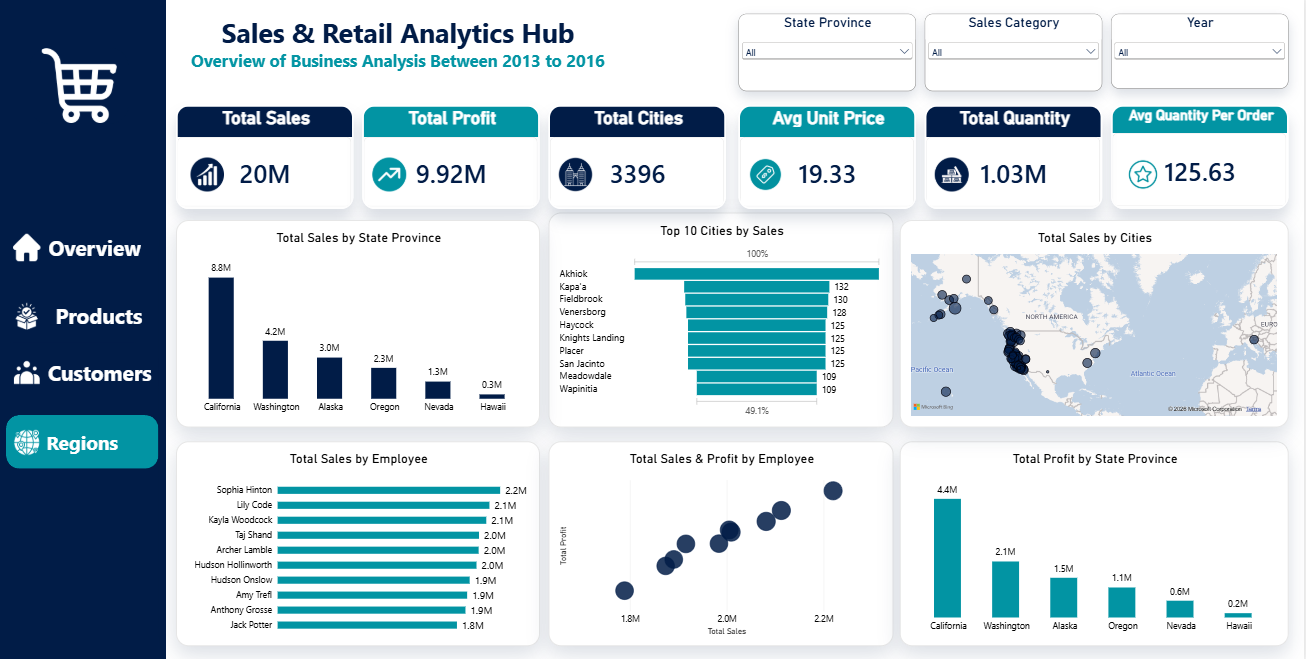

This screenshot's page, from the dashboard's own definition file:
{"tool":"powerbi","page":{"name":"Regions","canvas":[2110,1070],"ordinal":3},"visuals":[{"type":"shape","box":[10,0,278,1070],"z":0},{"type":"textbox","box":[304,30,710,108],"z":1000},{"type":"cardVisual","title":"Total Sales","fields":{"Data":["FactSale.Total Sales"]},"box":[304,176,284,166],"z":2000},{"type":"funnel","title":"Top 10 Cities by Sales","fields":{"Category":["DimCity.City"],"Y":["FactSale.Total Orders"]},"box":[900,348,552,344],"z":3000},{"type":"cardVisual","title":"Total Profit","fields":{"Data":["FactSale.Total Profit"]},"box":[602,176,284,166],"z":4000},{"type":"cardVisual","title":"Avg Unit Price","fields":{"Data":["FactSale.Average Unit Price"]},"box":[1204,176,284,166],"z":5000},{"type":"cardVisual","title":"Avg Quantity Per Order","fields":{"Data":["FactSale.Avg Quantity per Order"]},"box":[1800,176,284,166],"z":6000},{"type":"cardVisual","title":"Total Quantity","fields":{"Data":["FactSale.Total Quantity"]},"box":[1502,176,284,166],"z":7000},{"type":"cardVisual","title":"Total Cities","fields":{"Data":["DimCity.Total Cities"]},"box":[900,176,284,166],"z":8000},{"type":"slicer","title":"Year","fields":{"Values":["DimDate.Date.Variation.Date Hierarchy.Year"]},"box":[1800,30,284,120],"z":9000},{"type":"slicer","title":"Sales Category","fields":{"Values":["FactSale.Sales Category"]},"box":[1502,30,284,124],"z":10000},{"type":"slicer","title":"State Province","fields":{"Values":["DimCity.State Province"]},"box":[1204,30,284,124],"z":11000},{"type":"image","box":[304,260,100,54],"z":12000},{"type":"image","box":[602,260,86,54],"z":13000},{"type":"image","box":[900,260,86,54],"z":14000},{"type":"image","box":[1204,260,86,54],"z":15000},{"type":"image","box":[1502,260,86,54],"z":16000},{"type":"image","box":[1808,260,86,54],"z":17000},{"type":"shape","box":[76,360,178,86],"z":18000},{"type":"image","box":[32,382,66,44],"z":19000},{"type":"shape","box":[22,470,234,86],"z":20000},{"type":"image","box":[32,492,66,44],"z":21000},{"type":"shape","box":[88,560,188,86],"z":22000},{"type":"image","box":[32,582,66,44],"z":23000},{"type":"shape","box":[32,672,244,86],"z":24000},{"type":"image","box":[32,694,66,44],"z":25000},{"type":"image","box":[70,84,158,122],"z":26000},{"type":"columnChart","title":"Total Sales by State Province","fields":{"Category":["DimCity.State Province"],"Y":["FactSale.Total Sales"]},"box":[304,360,582,332],"z":27000},{"type":"barChart","title":"Total Sales by Employee","fields":{"Category":["DimEmployee.Employee"],"Y":["FactSale.Total Sales"]},"box":[304,714,582,328],"z":28000},{"type":"scatterChart","title":"Total Sales & Profit by Employee","fields":{"Category":["DimEmployee.Employee"],"Size":["FactSale.Total Quantity"],"X":["FactSale.Total Sales"],"Y":["FactSale.Total Profit"]},"box":[900,714,552,328],"z":29000},{"type":"columnChart","title":"Total Profit by State Province","fields":{"Category":["DimCity.State Province"],"Y":["FactSale.Total Profit"]},"box":[1462,714,622,328],"z":30000},{"type":"map","title":"Total Sales by Cities","fields":{"Category":["DimCity.City"],"Size":["FactSale.Total Sales"]},"box":[1462,360,622,332],"z":31000}]}

Visuals, with their boxes in screenshot pixels (x1, y1, x2, y2), scaled from the page's 2110x1070 canvas onto the 1306x659 screenshot:
shape: bbox(6, 0, 178, 658)
textbox: bbox(188, 18, 628, 85)
"Total Sales" cardVisual: bbox(188, 108, 364, 211)
"Top 10 Cities by Sales" funnel: bbox(557, 214, 899, 426)
"Total Profit" cardVisual: bbox(373, 108, 548, 211)
"Avg Unit Price" cardVisual: bbox(745, 108, 921, 211)
"Avg Quantity Per Order" cardVisual: bbox(1114, 108, 1290, 211)
"Total Quantity" cardVisual: bbox(930, 108, 1105, 211)
"Total Cities" cardVisual: bbox(557, 108, 733, 211)
"Year" slicer: bbox(1114, 18, 1290, 92)
"Sales Category" slicer: bbox(930, 18, 1105, 95)
"State Province" slicer: bbox(745, 18, 921, 95)
image: bbox(188, 160, 250, 193)
image: bbox(373, 160, 426, 193)
image: bbox(557, 160, 610, 193)
image: bbox(745, 160, 798, 193)
image: bbox(930, 160, 983, 193)
image: bbox(1119, 160, 1172, 193)
shape: bbox(47, 222, 157, 275)
image: bbox(20, 235, 61, 262)
shape: bbox(14, 289, 158, 342)
image: bbox(20, 303, 61, 330)
shape: bbox(54, 345, 171, 398)
image: bbox(20, 358, 61, 386)
shape: bbox(20, 414, 171, 467)
image: bbox(20, 427, 61, 455)
image: bbox(43, 52, 141, 127)
"Total Sales by State Province" columnChart: bbox(188, 222, 548, 426)
"Total Sales by Employee" barChart: bbox(188, 440, 548, 642)
"Total Sales & Profit by Employee" scatterChart: bbox(557, 440, 899, 642)
"Total Profit by State Province" columnChart: bbox(905, 440, 1290, 642)
"Total Sales by Cities" map: bbox(905, 222, 1290, 426)
